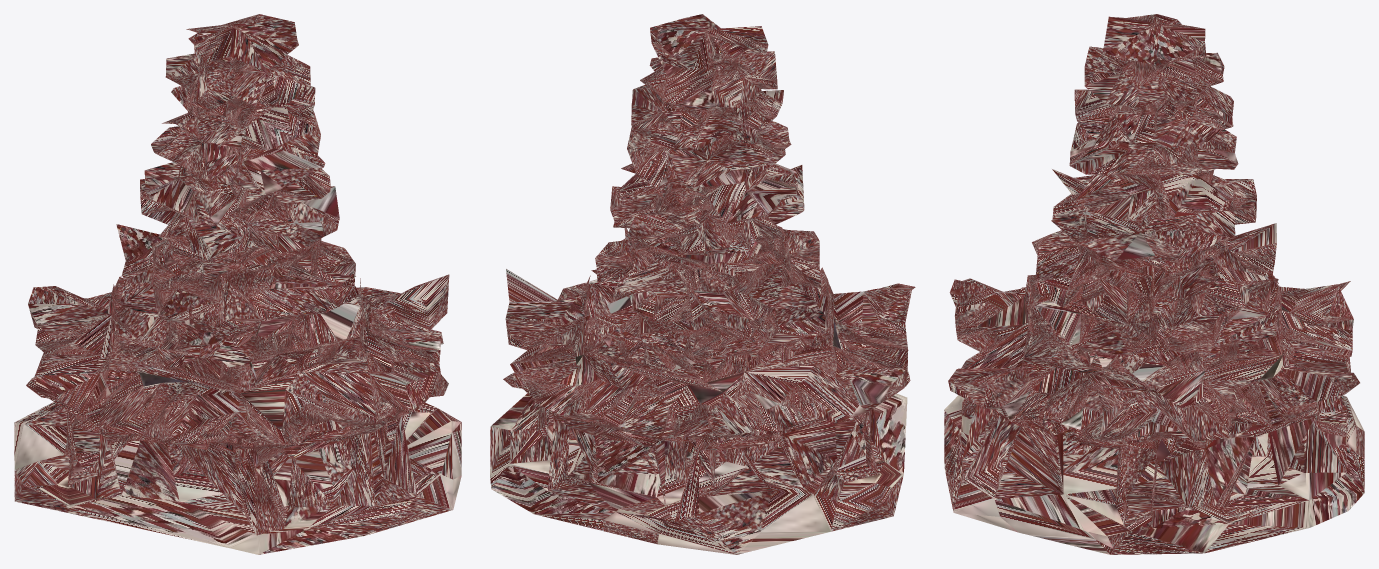
File: lib_pagoda_red.far.glb
3 views of the same model, side by side, from view 1: azimuth 30°, elevation 25°; view 2: azimuth 150°, elevation 25°; view 3: azimuth 270°, elevation 25° (orthographic). The views are drawn at different scales.
Visible parts, largest first — view 1: output_unwrapped; view 2: output_unwrapped; view 3: output_unwrapped.
Boxes of the visible parts, x1=… form: output_unwrapped: x1=14, y1=14, x2=461, y2=554; output_unwrapped: x1=490, y1=14, x2=915, y2=554; output_unwrapped: x1=944, y1=14, x2=1364, y2=554.
Bounding box in the file's own units: 1.95 × 1.95 × 1.72.
Materials: 1 (1 with a texture image).
